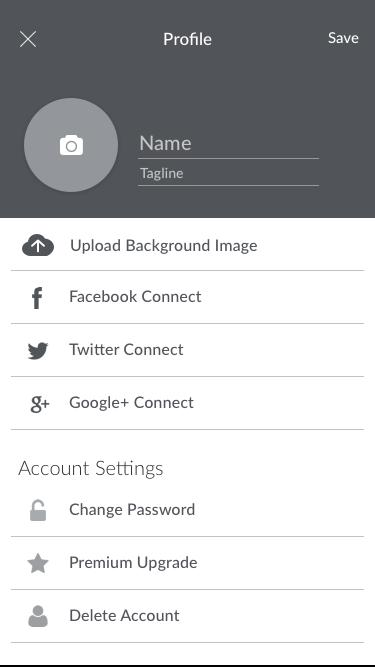EditText: (137, 136, 321, 160), (138, 168, 321, 187)
Icon: (23, 235, 55, 257), (28, 553, 50, 575), (29, 605, 49, 627), (28, 342, 50, 361), (19, 30, 39, 49), (31, 499, 47, 522), (32, 396, 51, 414), (33, 287, 44, 310)
Image: (23, 97, 119, 193)
Text: (71, 239, 258, 257), (17, 460, 164, 480), (70, 395, 196, 412), (70, 555, 198, 571), (70, 502, 196, 518), (70, 289, 202, 304), (69, 343, 185, 357), (70, 608, 183, 622), (163, 33, 213, 47), (328, 32, 360, 45)
Toolbar: (1, 2, 375, 67)
